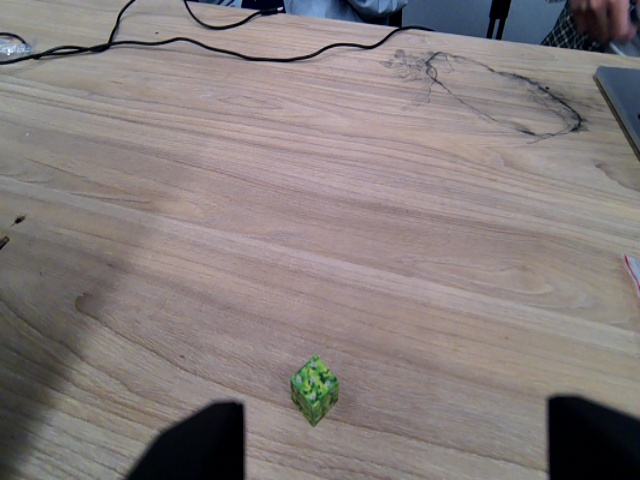grass: (290, 351, 341, 426)
